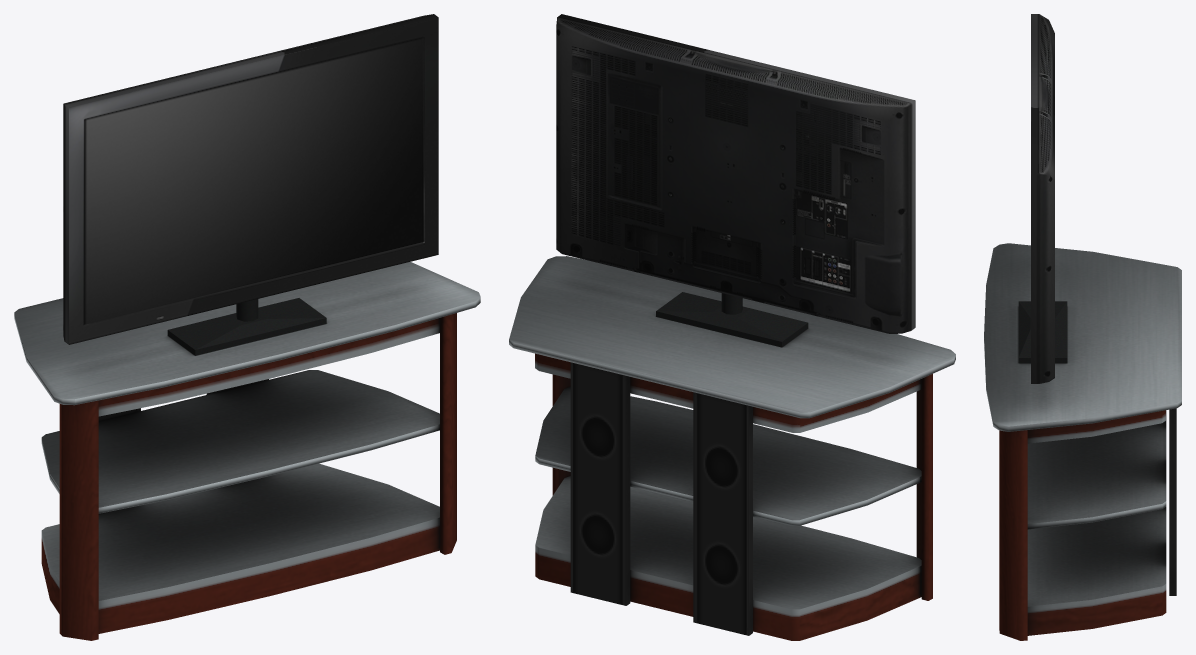
File: tv_stand.dae
The picture shows the model from 3 angles, left to right: view 1: azimuth 30°, elevation 25°; view 2: azimuth 150°, elevation 25°; view 3: azimuth 270°, elevation 25°; orthographic projection. The views are drawn at different scales.
Parts seen in each view (by area): view 1: TvStand, TV; view 2: TvStand, TV; view 3: TvStand, TV.
Boxes of the visible parts, left/top/right/bottom form: TvStand: left=14, top=262, right=480, bottom=640; TV: left=63, top=14, right=438, bottom=355; TvStand: left=509, top=256, right=955, bottom=640; TV: left=556, top=14, right=915, bottom=347; TvStand: left=984, top=243, right=1181, bottom=640; TV: left=1018, top=14, right=1067, bottom=383.
Bounding box in the file's own units: 128 × 58.52 × 151.
